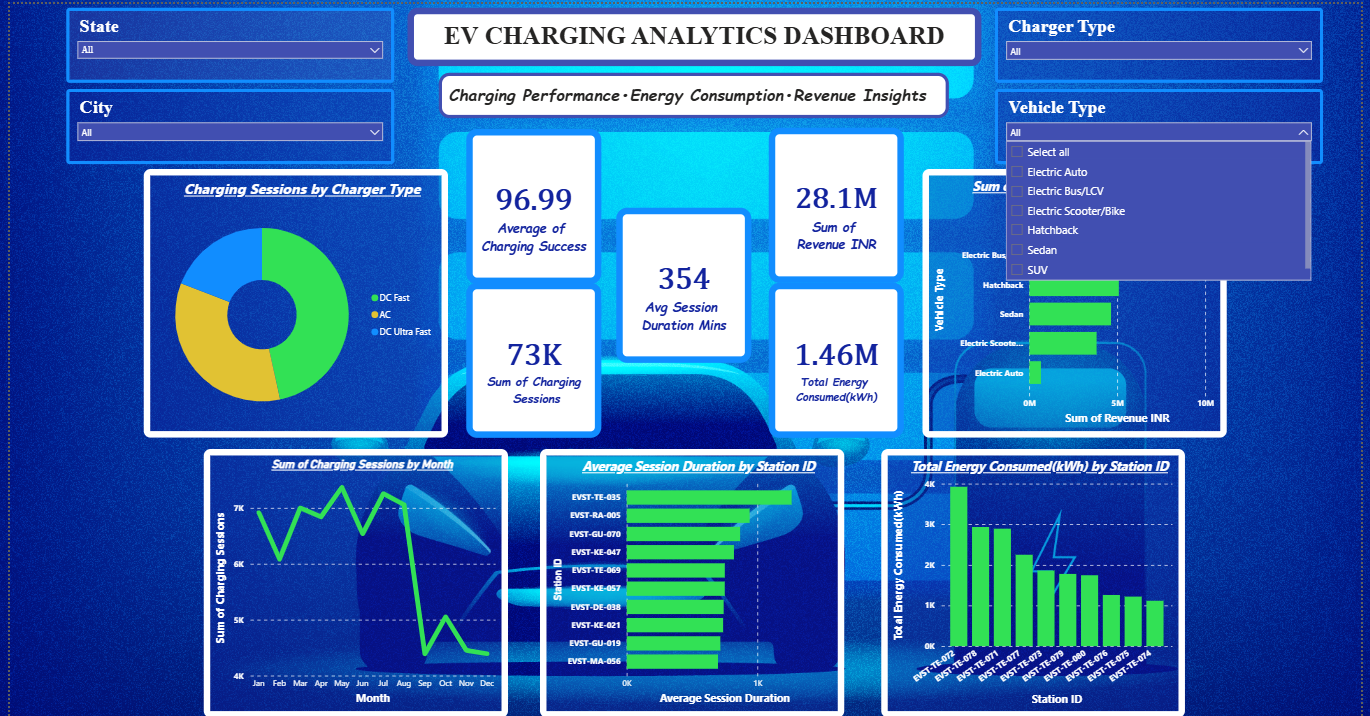

The page's visual inventory and layout, read from the dashboard file:
{"tool":"powerbi","page":{"name":"EV Executive Overview","canvas":[2000,1056],"ordinal":0},"visuals":[{"type":"card","fields":{"Values":["Sum(Sheet1.Charging_Sessions)"]},"box":[675.2,412.3,199.8,229.3],"z":0},{"type":"card","fields":{"Values":["Sum(Sheet1.Energy_Consumed_kWh)"]},"box":[1123.3,412.3,199.8,229.3],"z":1000},{"type":"card","fields":{"Values":["Sum(Sheet1.Revenue_INR)"]},"box":[1123.3,183,199.8,229.3],"z":2000},{"type":"card","fields":{"Values":["Avg(Sheet1.Avg_Session_Duration_Min)"]},"box":[898.2,300.8,199.8,229.3],"z":3000},{"type":"lineChart","fields":{"Y":["Sum(Sheet1.Charging_Sessions)"],"Category":["Sheet1.Month"]},"box":[286.1,658.4,450.1,397.6],"z":4000},{"type":"clusteredBarChart","fields":{"Category":["Sheet1.Station_ID"],"Y":["Avg(Sheet1.Avg_Session_Duration_Min)"]},"box":[784.6,658.4,450.1,397.6],"z":5000},{"type":"clusteredColumnChart","title":"Total Energy Consumed(kWh) by Station ID","fields":{"Category":["Sheet1.Station_ID"],"Y":["Sum(Sheet1.Total Energy Consumed(kWh))"]},"box":[1289.8,658.8,449.7,397.9],"z":6000},{"type":"donutChart","title":"Charging Sessions by Charger Type","fields":{"Category":["Sheet1.Charger_Type"],"Y":["Sum(Sheet1.Charging_Sessions)"]},"box":[197.7,244,450.1,397.6],"z":7000},{"type":"card","fields":{"Values":["Avg(Sheet1.Charging_Success_%)"]},"box":[675.2,185.1,199.8,229.3],"z":8000},{"type":"clusteredBarChart","fields":{"Category":["Sheet1.Vehicle_Type"],"Y":["Sum(Sheet1.Revenue_INR)"]},"box":[1350.4,244,450.1,397.6],"z":9000},{"type":"textbox","box":[589,6,849.8,86.2],"z":10000},{"type":"textbox","box":[635.3,102,755.2,67.3],"z":11000},{"type":"slicer","fields":{"Values":["Sheet1.State"]},"box":[84.1,6.3,485.9,111.5],"z":12000},{"type":"slicer","fields":{"Values":["Sheet1.Charger_Type"]},"box":[1457.7,6.3,485.9,111.5],"z":13000},{"type":"slicer","fields":{"Values":["Sheet1.Vehicle_Type"]},"box":[1457.7,126.2,485.9,111],"z":14000},{"type":"slicer","fields":{"Values":["Sheet1.City"]},"box":[84.1,126.2,485.9,111.5],"z":15000}]}

Visuals, with their boxes in screenshot pixels (x1, y1, x2, y2), scaled from the page's 2000x1056 canvas onto the 1370x716 screenshot:
card - Sum(Sheet1.Charging_Sessions): bbox=(463, 280, 599, 435)
card - Sum(Sheet1.Energy_Consumed_kWh): bbox=(769, 280, 906, 435)
card - Sum(Sheet1.Revenue_INR): bbox=(769, 124, 906, 280)
card - Avg(Sheet1.Avg_Session_Duration_Min): bbox=(615, 204, 752, 359)
lineChart - Sum(Sheet1.Charging_Sessions) x Sheet1.Month: bbox=(196, 446, 504, 715)
clusteredBarChart - Sheet1.Station_ID x Avg(Sheet1.Avg_Session_Duration_Min): bbox=(537, 446, 846, 715)
"Total Energy Consumed(kWh) by Station ID" clusteredColumnChart: bbox=(884, 447, 1192, 715)
"Charging Sessions by Charger Type" donutChart: bbox=(135, 165, 444, 435)
card - Avg(Sheet1.Charging_Success_%): bbox=(463, 126, 599, 281)
clusteredBarChart - Sheet1.Vehicle_Type x Sum(Sheet1.Revenue_INR): bbox=(925, 165, 1233, 435)
textbox: bbox=(403, 4, 986, 63)
textbox: bbox=(435, 69, 952, 115)
slicer - Sheet1.State: bbox=(58, 4, 390, 80)
slicer - Sheet1.Charger_Type: bbox=(999, 4, 1331, 80)
slicer - Sheet1.Vehicle_Type: bbox=(999, 86, 1331, 161)
slicer - Sheet1.City: bbox=(58, 86, 390, 161)
